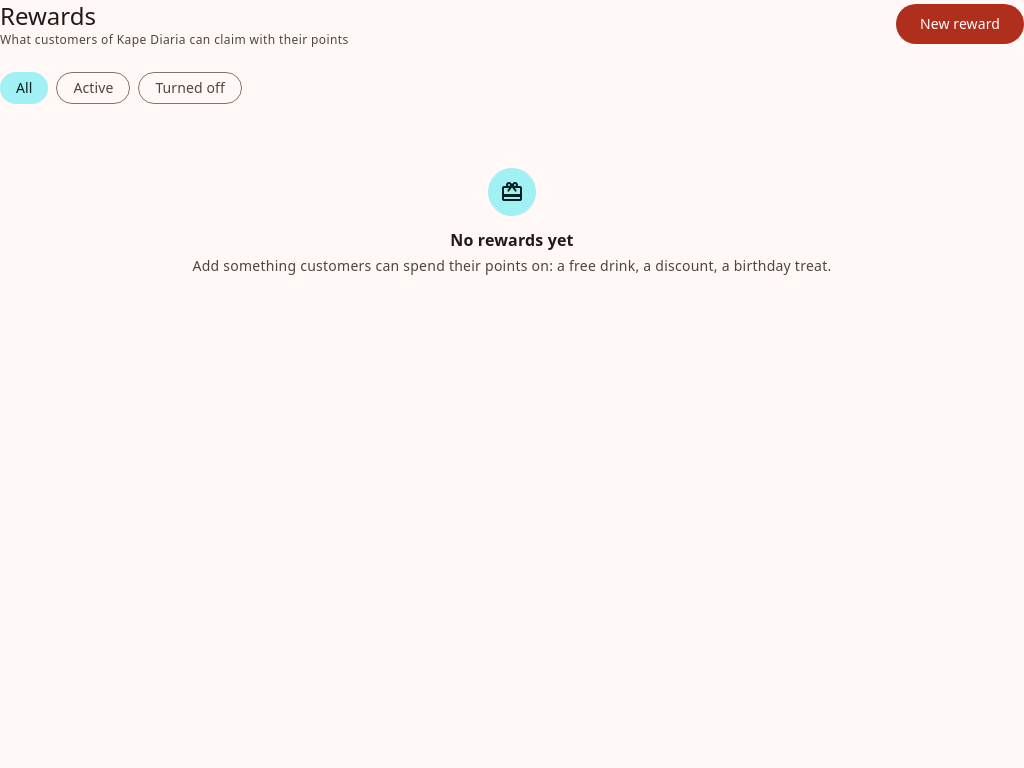
Test: RewardsManager: the create flow › refuses stock of zero before it ever reaches the server
Click the button "New reward" at (960, 24), box [896, 4, 1023, 44]
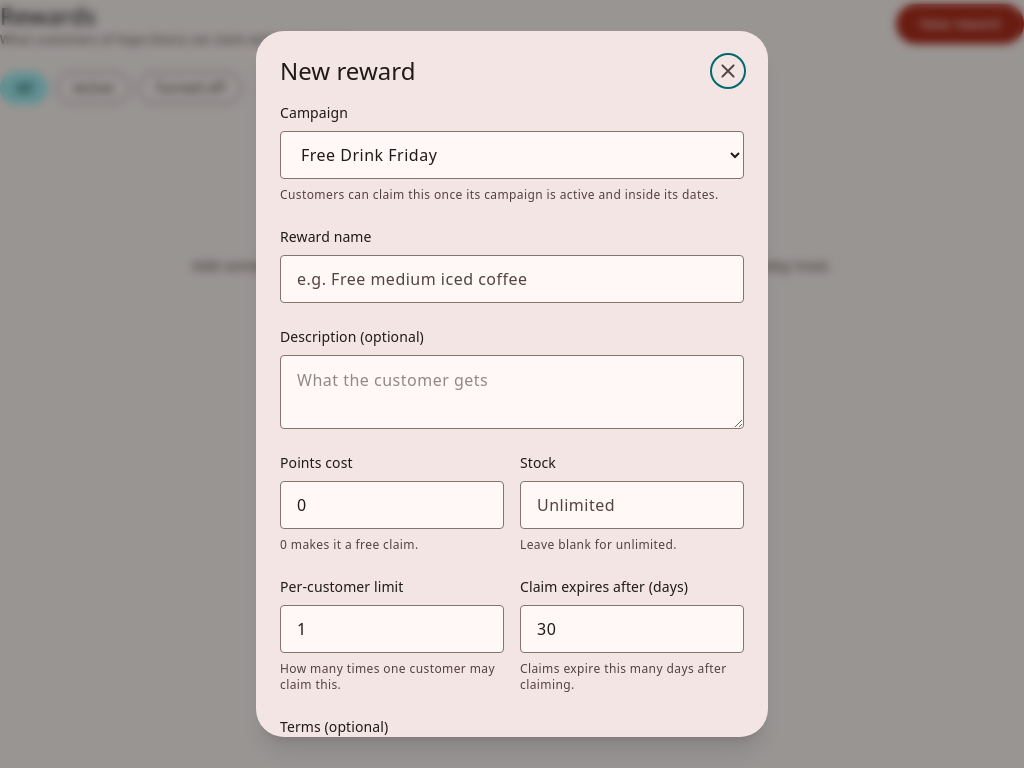
Type "Free pastry" into the field labelled "Reward name" at (512, 279), box [280, 255, 744, 303]
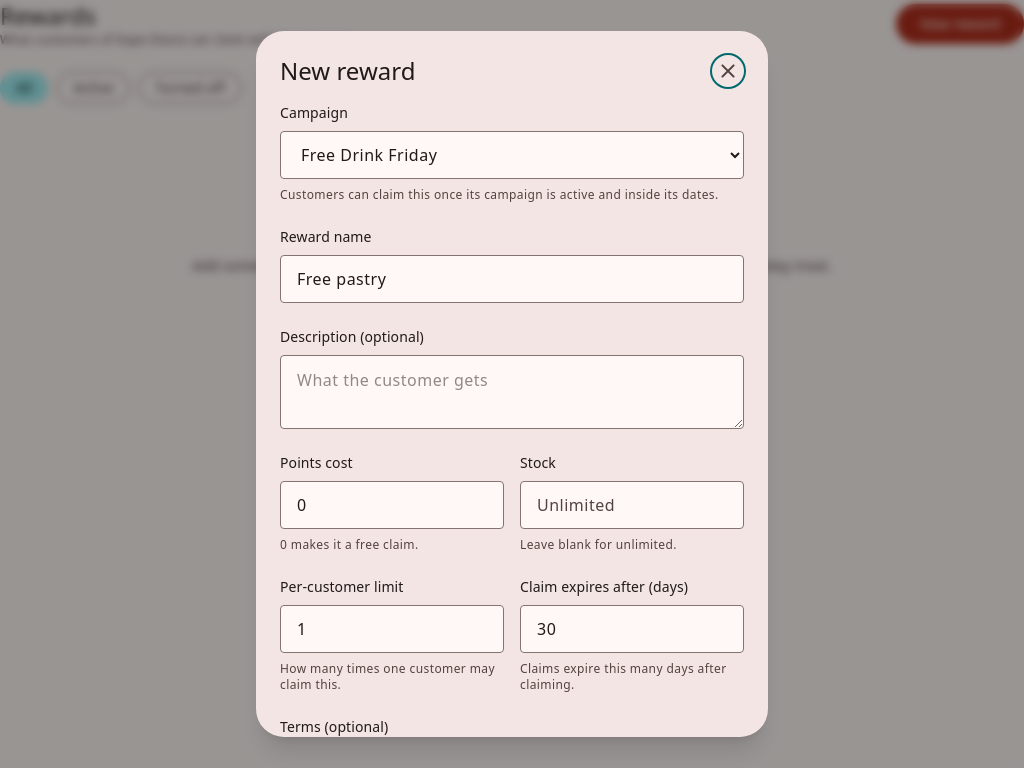
Type "250" into the field labelled "Points cost" at (392, 505), box [280, 481, 504, 529]
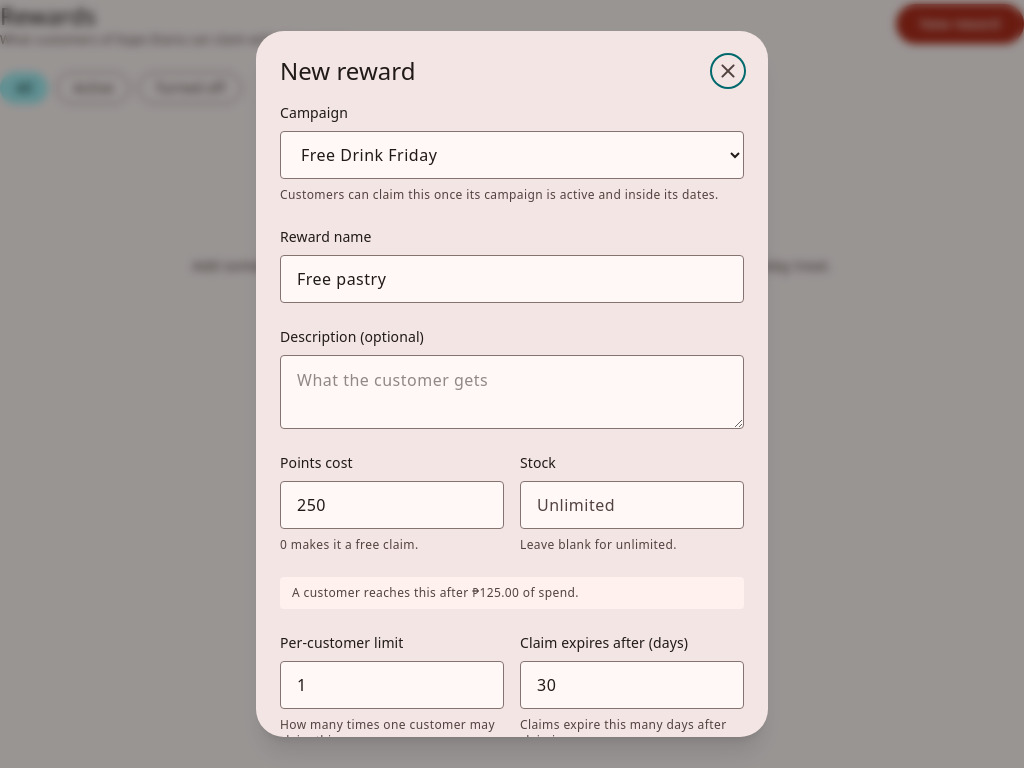
Type "20" into the field labelled "Stock" at (632, 505), box [520, 481, 744, 529]
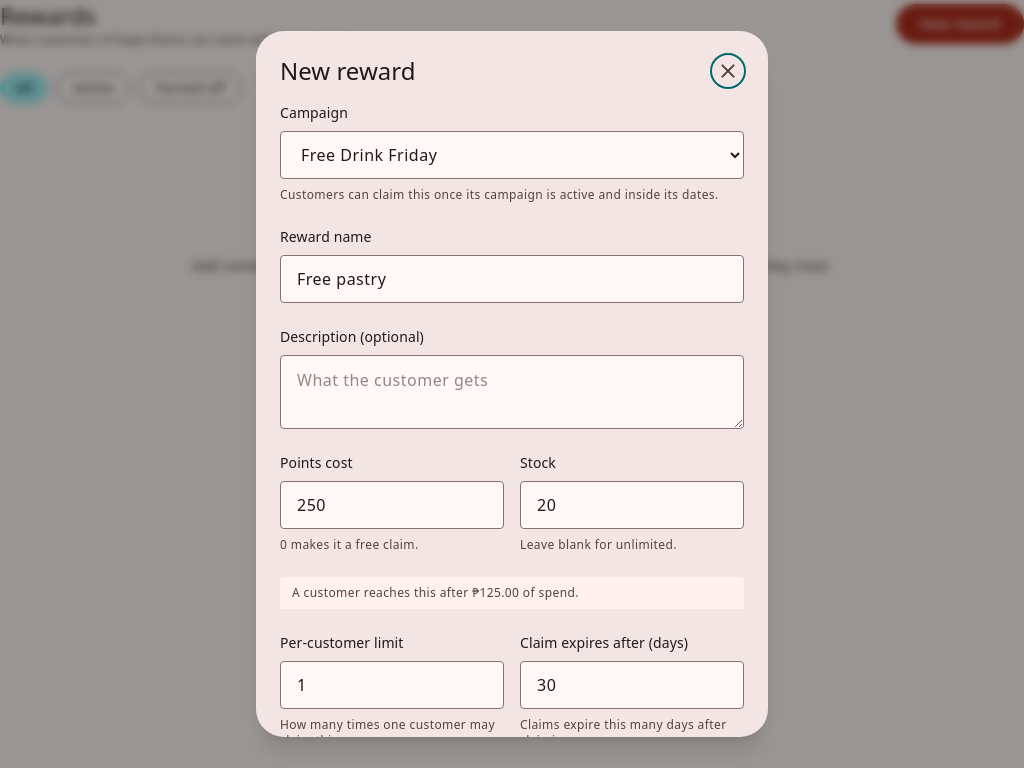
Replace the text in the field labelled "Stock" with "0" at (632, 505), box [520, 481, 744, 529]
(page scrolled)
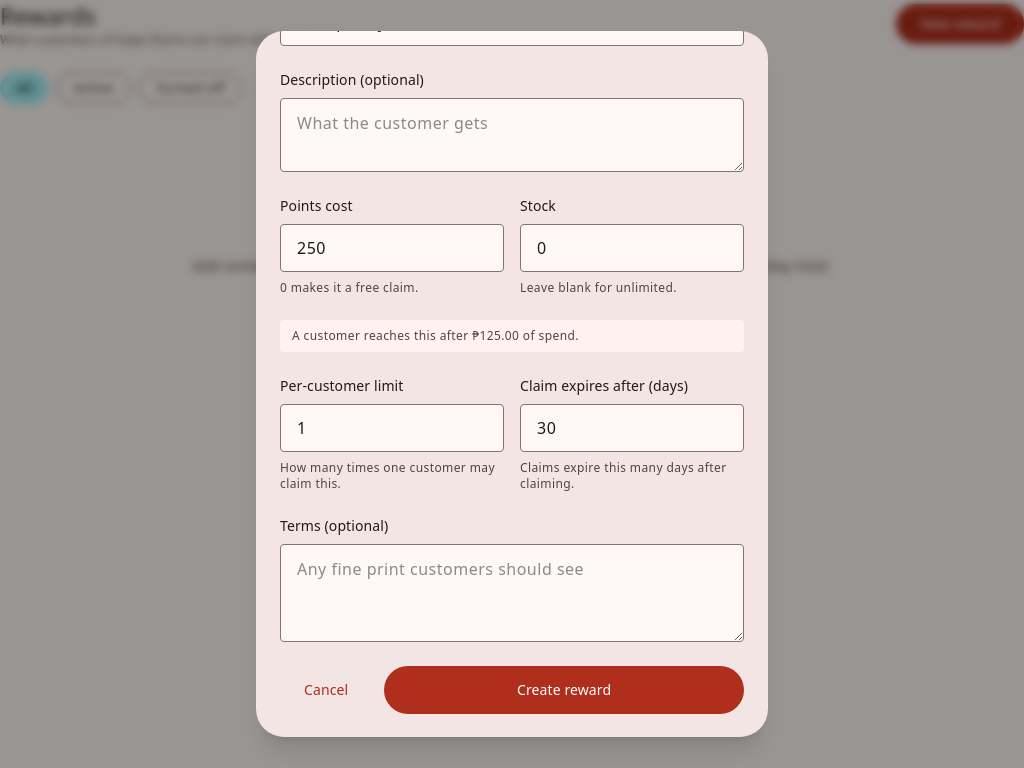
Click the button "Create reward" at (564, 690), box [384, 666, 744, 714]
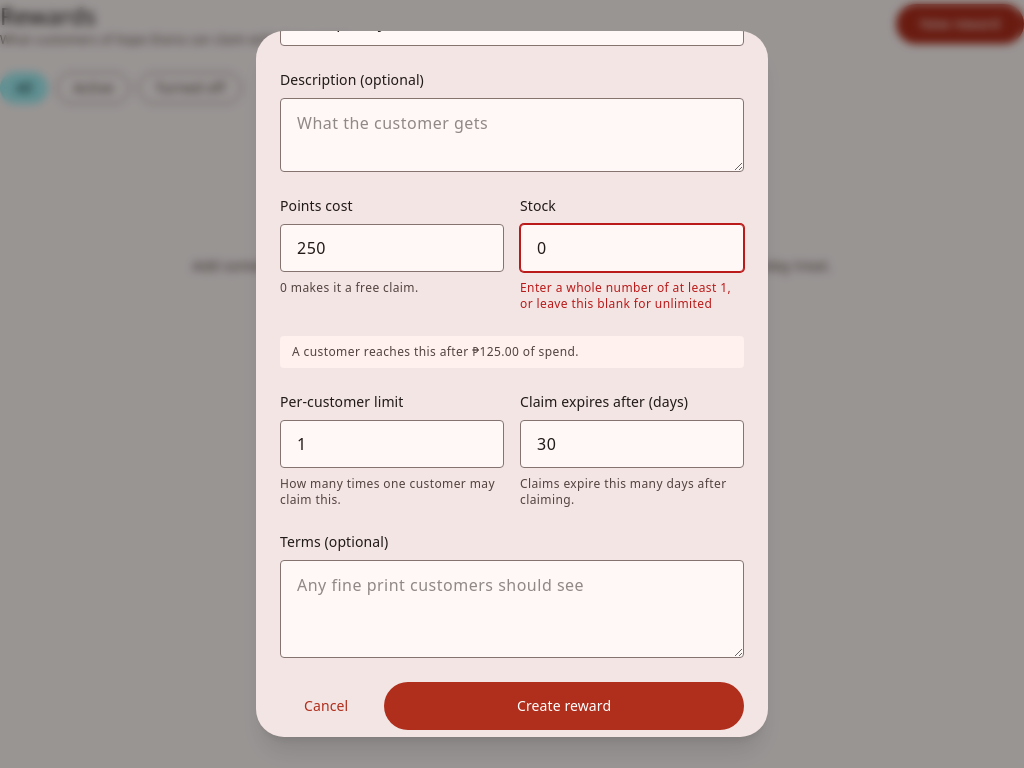
Result: the text "Enter a whole number of at least 1, or leave this blank for unlimited" is shown at [520, 280, 744, 312]
